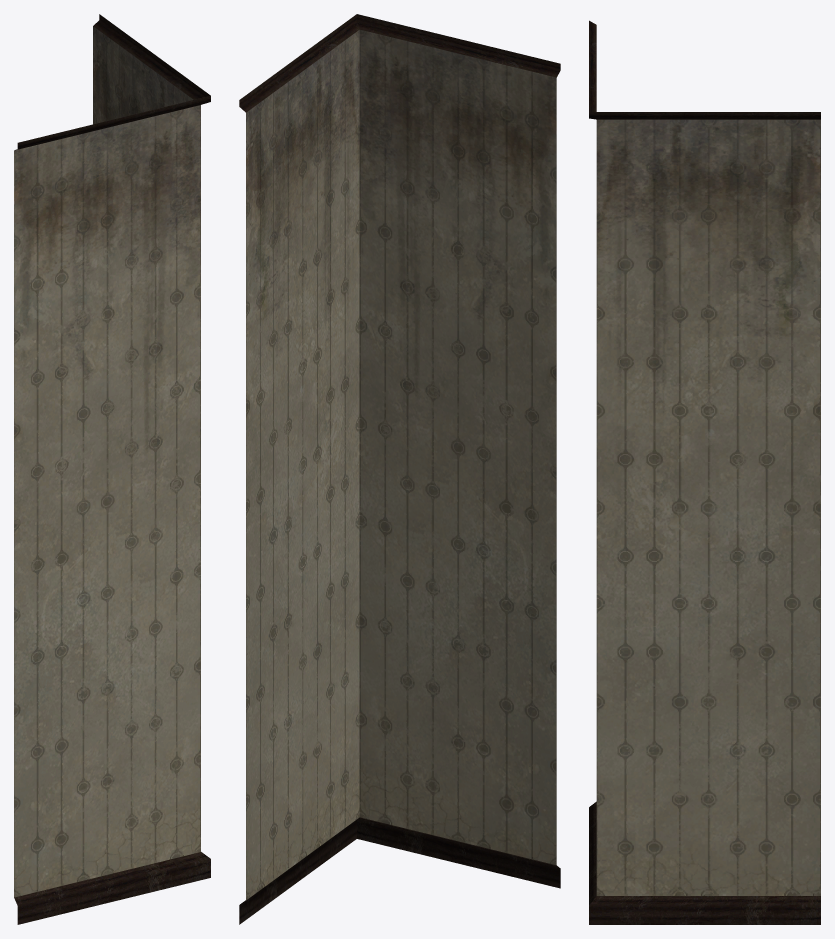
Rendered from hallway_damaged_convex_short.dae.
The picture shows the model from 3 angles, left to right: view 1: azimuth 30°, elevation 25°; view 2: azimuth 150°, elevation 25°; view 3: azimuth 270°, elevation 25°; orthographic projection. The views are drawn at different scales.
Parts seen in each view (by area): view 1: polySurface3; view 2: polySurface3; view 3: polySurface3.
Part boxes in pixels (left/top/right/bottom): polySurface3: left=14, top=14, right=210, bottom=924; polySurface3: left=239, top=14, right=560, bottom=924; polySurface3: left=589, top=20, right=820, bottom=924.
Bounding box in the file's own units: 1.03 × 4 × 1.03.
